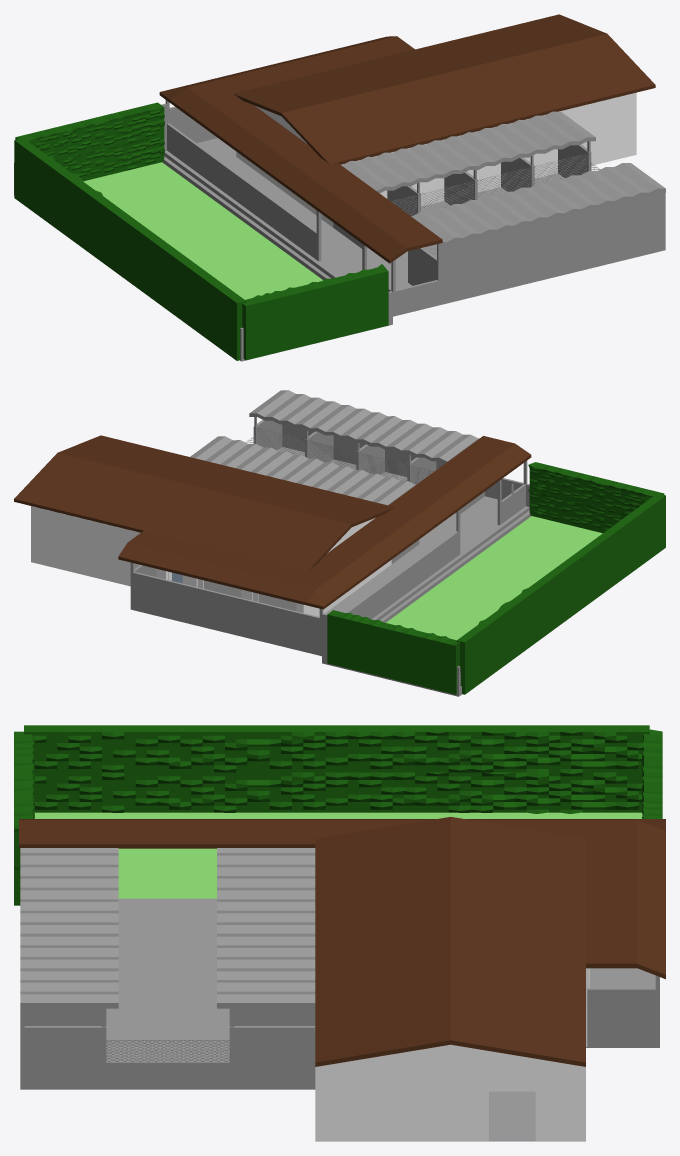
File: New Ong Walls.fbx
The picture shows the model from 3 angles, top to bottom: view 1: azimuth 30°, elevation 25°; view 2: azimuth 150°, elevation 25°; view 3: azimuth 270°, elevation 25°; orthographic projection. The views are drawn at different scales.
Visible parts, largest first — view 1: Cube.015, Cube.008, Cube.014, Cube.011, Cube.007, Cube.049, Cube.010, Cube.009, Cube.047, Cube.002, Cube.050, Cube.048 (+5 smaller); view 2: Cube.015, Cube.014, Cube.011, Cube.007, Cube.049, Cube.002, Cube.010, Cube.005, Cube.009, Cube.047, Cube.008, Cube.048 (+6 smaller); view 3: Cube.015, Cube.008, Cube.049, Cube.047, Cube.014, Cube.002, Cube.009, Cube.010, Cube.011, Cube.005, Cube.007, Cube.050 (+4 smaller).
Part boxes in pixels (box(x1,y1,x2,y2)): Cube.015: box(234, 14, 655, 164); Cube.008: box(333, 141, 665, 305); Cube.014: box(159, 36, 442, 263); Cube.011: box(14, 103, 392, 361); Cube.007: box(165, 100, 438, 316); Cube.049: box(14, 138, 246, 331); Cube.010: box(411, 163, 665, 245); Cube.009: box(341, 111, 595, 193); Cube.047: box(14, 169, 240, 360); Cube.002: box(236, 92, 636, 227); Cube.050: box(242, 264, 388, 332); Cube.048: box(15, 102, 164, 160); Cube.015: box(14, 435, 394, 570); Cube.014: box(118, 436, 531, 609); Cube.011: box(322, 484, 602, 696); Cube.007: box(281, 460, 527, 656); Cube.049: box(456, 493, 665, 668); Cube.002: box(31, 506, 391, 616); Cube.010: box(249, 390, 479, 463); Cube.005: box(130, 562, 281, 645); Cube.009: box(190, 436, 415, 505); Cube.047: box(460, 522, 665, 694); Cube.008: box(253, 417, 484, 563); Cube.048: box(327, 610, 462, 670); Cube.015: box(315, 816, 585, 1066); Cube.008: box(20, 932, 315, 1089); Cube.049: box(24, 725, 649, 773); Cube.047: box(34, 772, 643, 813); Cube.014: box(19, 819, 665, 979); Cube.002: box(315, 968, 589, 1141); Cube.009: box(217, 848, 315, 1008); Cube.010: box(20, 848, 118, 1008); Cube.011: box(34, 812, 642, 901); Cube.005: box(586, 968, 659, 1047); Cube.007: box(118, 901, 216, 932); Cube.050: box(14, 731, 34, 867).
Size of the model in its own units: 6892 by 1125 by 5302.
